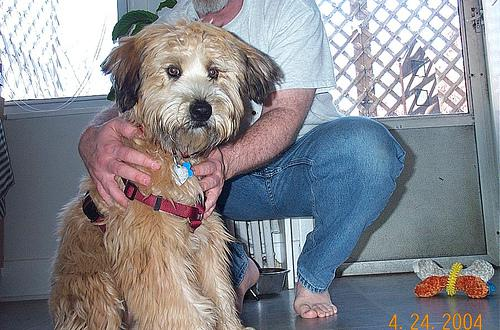dog-wheaten_terrier: (114, 19, 268, 141)
